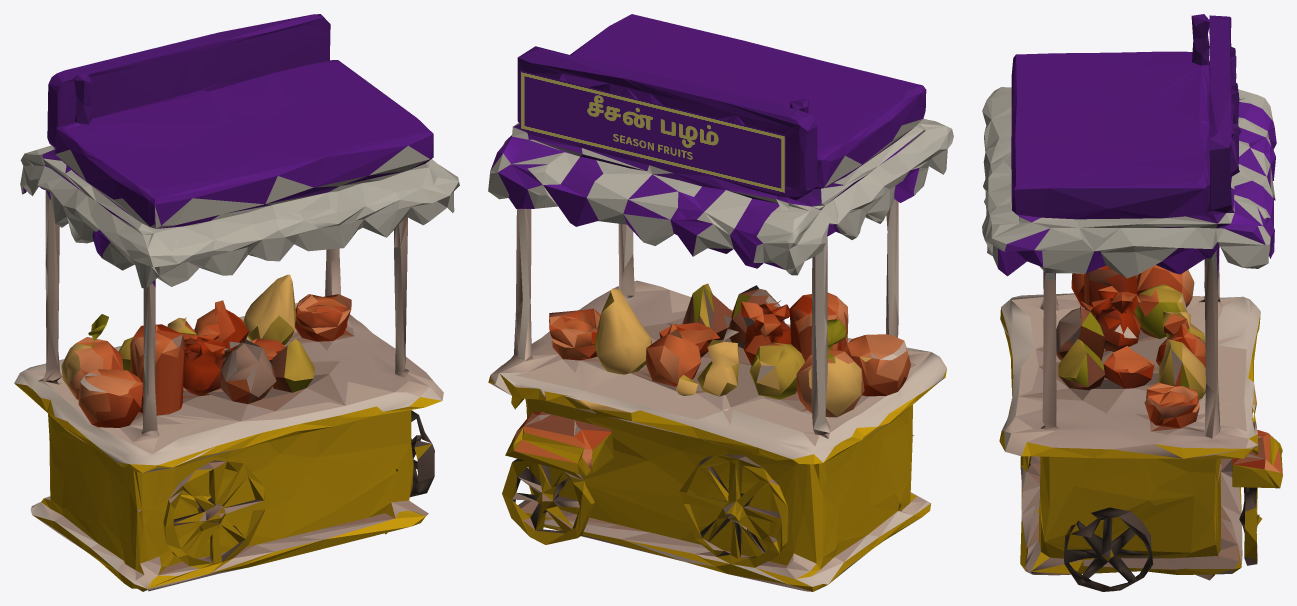
The model's file is fruit_cart_d.glb.
The picture shows the model from 3 angles, left to right: view 1: azimuth 30°, elevation 25°; view 2: azimuth 150°, elevation 25°; view 3: azimuth 270°, elevation 25°; orthographic projection. The views are drawn at different scales.
Visible parts, largest first — view 1: cart; view 2: cart, sign; view 3: cart.
Part boxes in pixels (<box>): cart: <box>14,14,459,591</box>; cart: <box>488,14,953,591</box>; sign: <box>519,70,785,194</box>; cart: <box>982,14,1282,591</box>.
Size of the model in its own units: 1.74 by 2.26 by 1.37.
2 materials, 1 textured.
